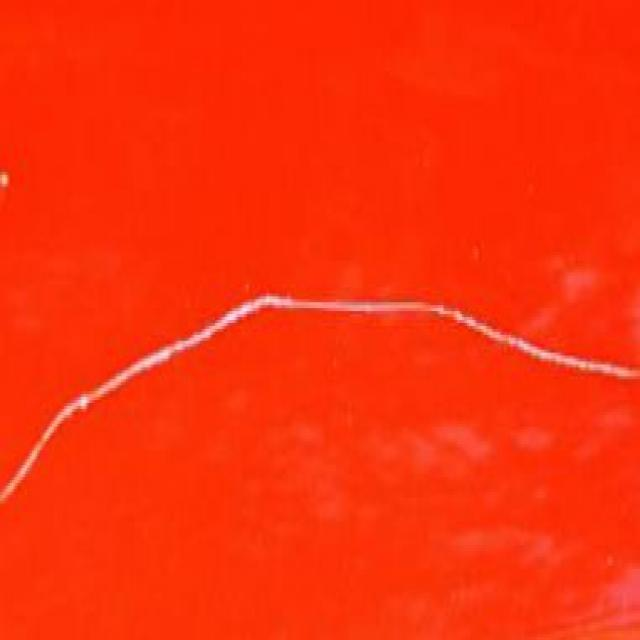scratch: (0, 290, 633, 521)
